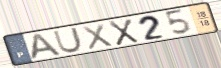2: (138, 13, 170, 43)
5: (163, 7, 193, 36)
A: (29, 32, 64, 62)
U: (52, 25, 84, 54)
X: (79, 22, 115, 51), (107, 18, 141, 47)
